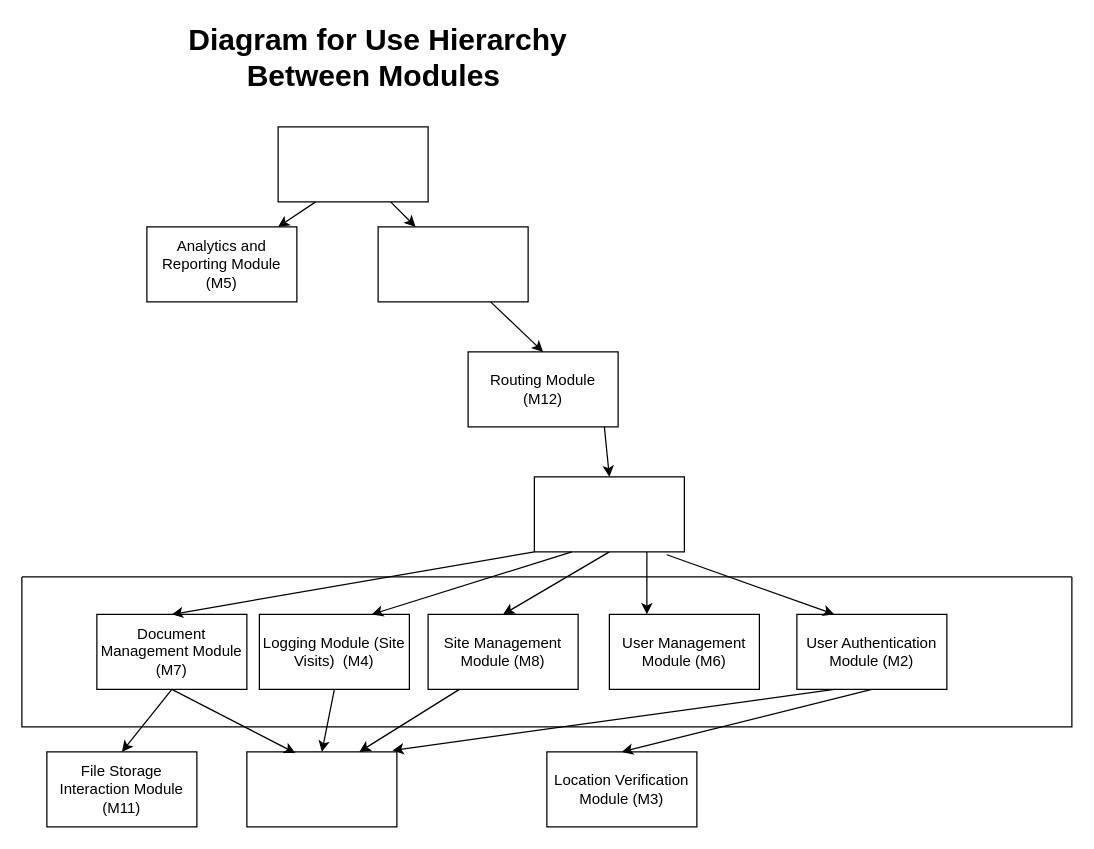
This 1094x849 diagram has some shape labels left out. Each missing label, with the box of its shape:
API Integration Module (M9): (377, 226, 528, 302)
Application Source Code: (21, 576, 1072, 727)
Database Interaction Module (M10): (246, 751, 397, 827)
Function Compute Module (M13): (533, 476, 684, 552)
SyncMaster: (277, 126, 428, 202)
